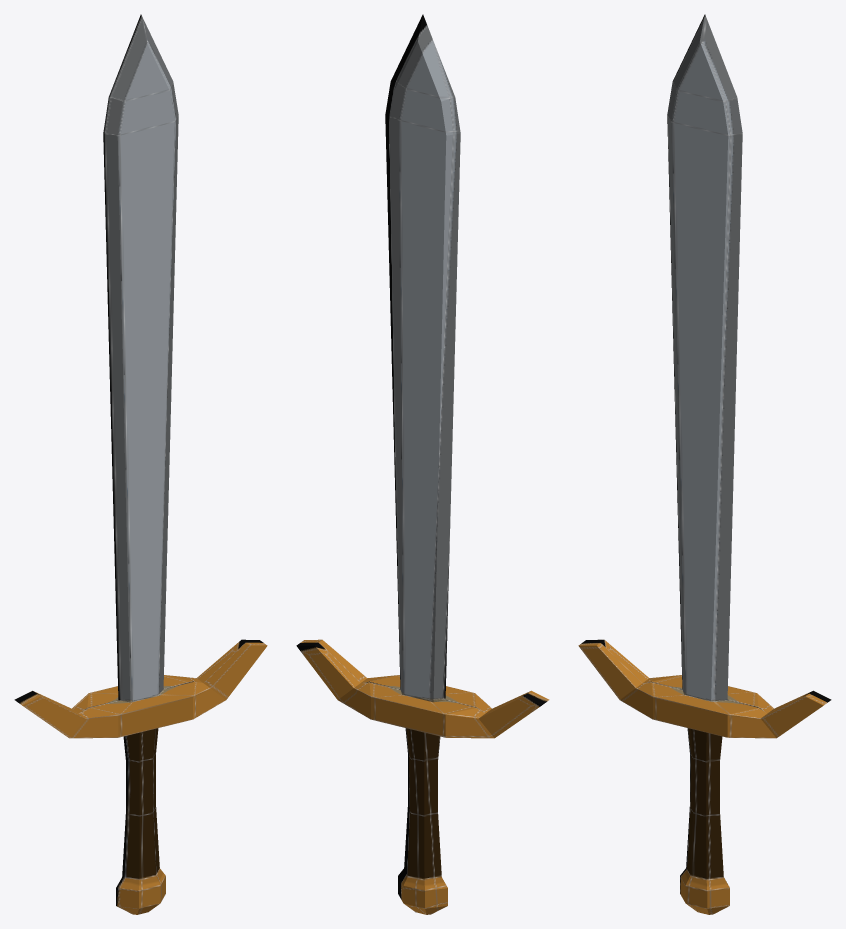
The model's file is SwordModel.fbx.
The picture shows the model from 3 angles, left to right: view 1: azimuth 30°, elevation 25°; view 2: azimuth 150°, elevation 25°; view 3: azimuth 330°, elevation 25°; orthographic projection.
Parts seen in each view (by area): view 1: pPlane1; view 2: pPlane1; view 3: pPlane1.
Part boxes in pixels (box(x1,y1,x2,y2)): pPlane1: box(14, 14, 267, 914); pPlane1: box(296, 14, 549, 914); pPlane1: box(578, 14, 831, 914).
Size of the model in its own units: 2.65 by 9.27 by 0.5517.
1 material, 1 textured.
